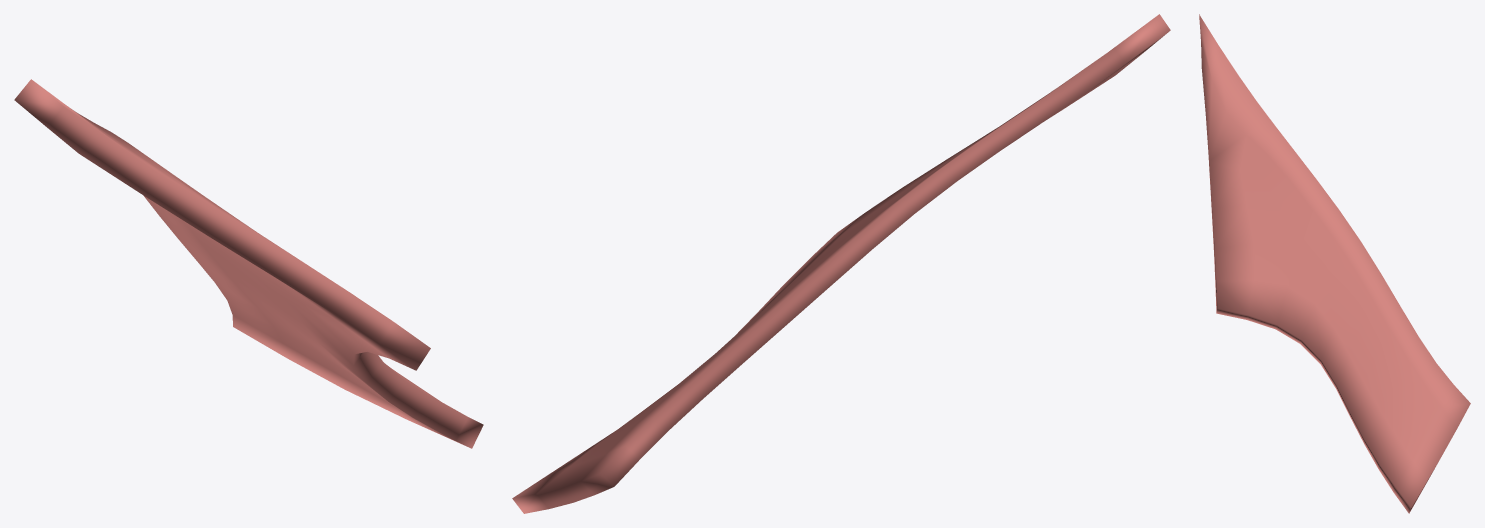
3 views of the same model, side by side, from view 1: azimuth 30°, elevation 25°; view 2: azimuth 150°, elevation 25°; view 3: azimuth 270°, elevation 25° (orthographic). The views are drawn at different scales.
Parts seen in each view (by area): view 1: ZA_e162c93777dfbbef; view 2: ZA_e162c93777dfbbef; view 3: ZA_e162c93777dfbbef.
Part boxes in pixels (box(x1,y1,x2,y2)): ZA_e162c93777dfbbef: box(14, 79, 483, 448); ZA_e162c93777dfbbef: box(512, 14, 1170, 513); ZA_e162c93777dfbbef: box(1199, 14, 1470, 513).
Size of the model in its own units: 0.0292 by 0.0279 by 0.0202.
